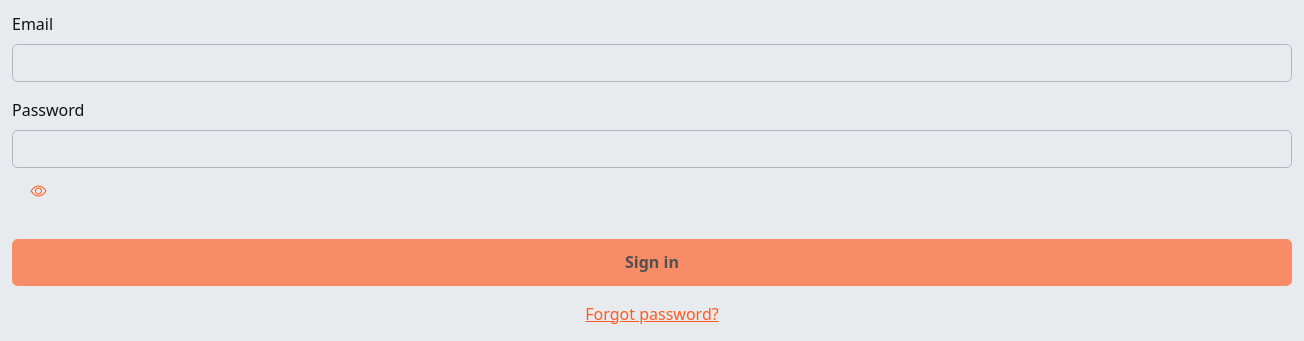
Test: LoginForm › provides accessible credential controls and a neutral failure message
Expected: the button "Sign in" is disabled, [12,239,1292,286]
Type "owner@example.com" into the field labelled "Email" at (652, 63), box [12,44,1292,82]
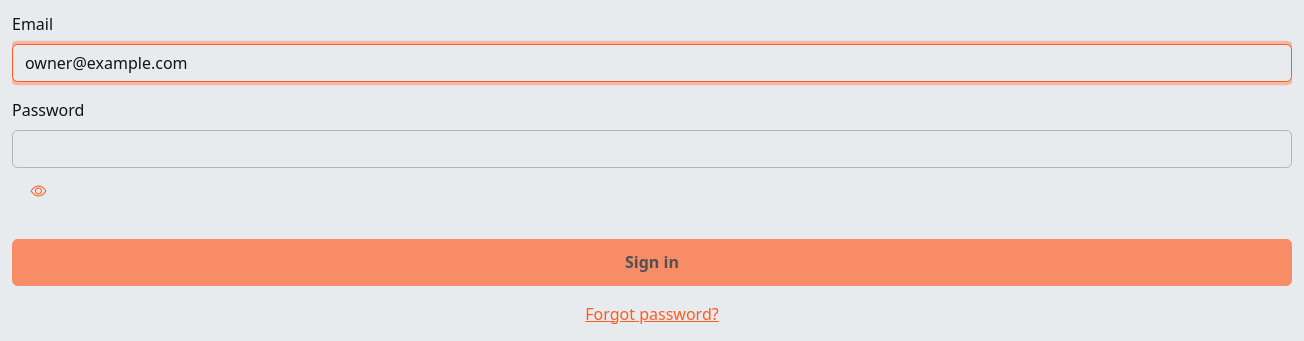
Type "Correct-Horse-Battery-Staple-92!" into the password field labelled "Password" at (652, 149), box [12,130,1292,168]
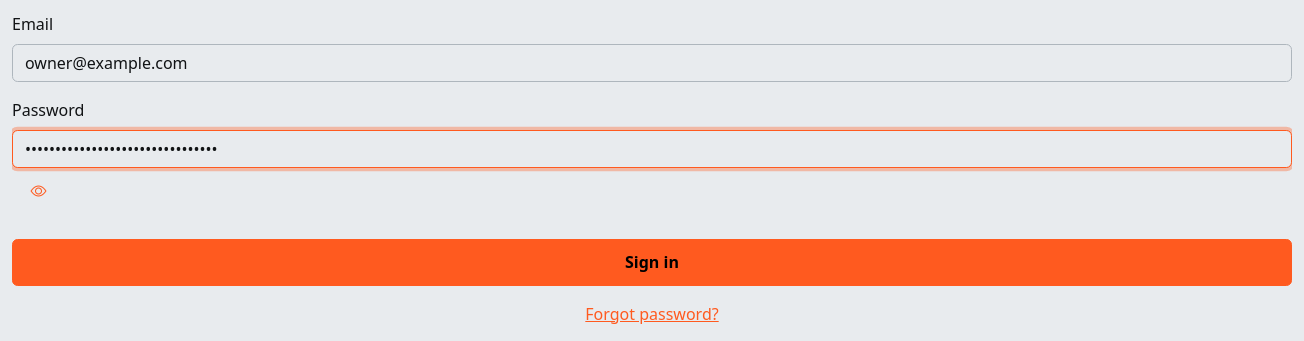
Now the button "Sign in" is enabled, box [12,239,1292,286]
Click the button named "show password" at (39, 191), box [12,168,65,215]
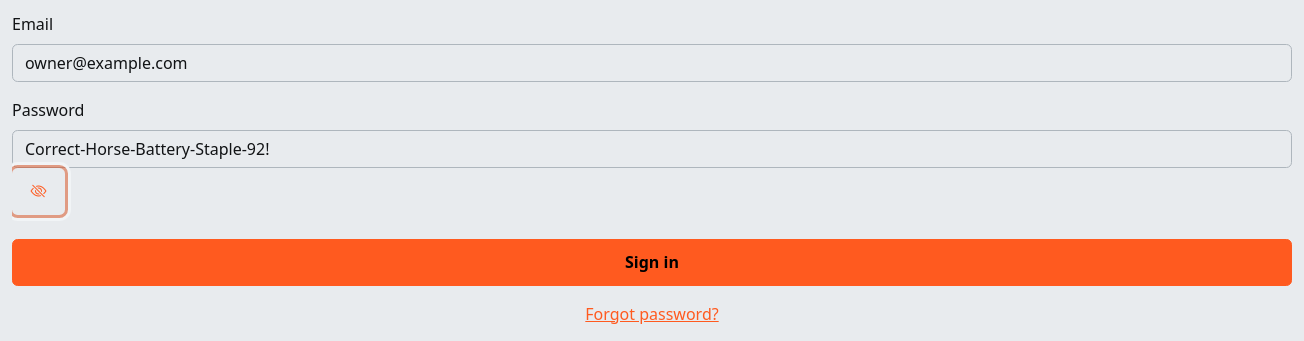
Now the field labelled "Password" shows its text, box [12,130,1292,168]
